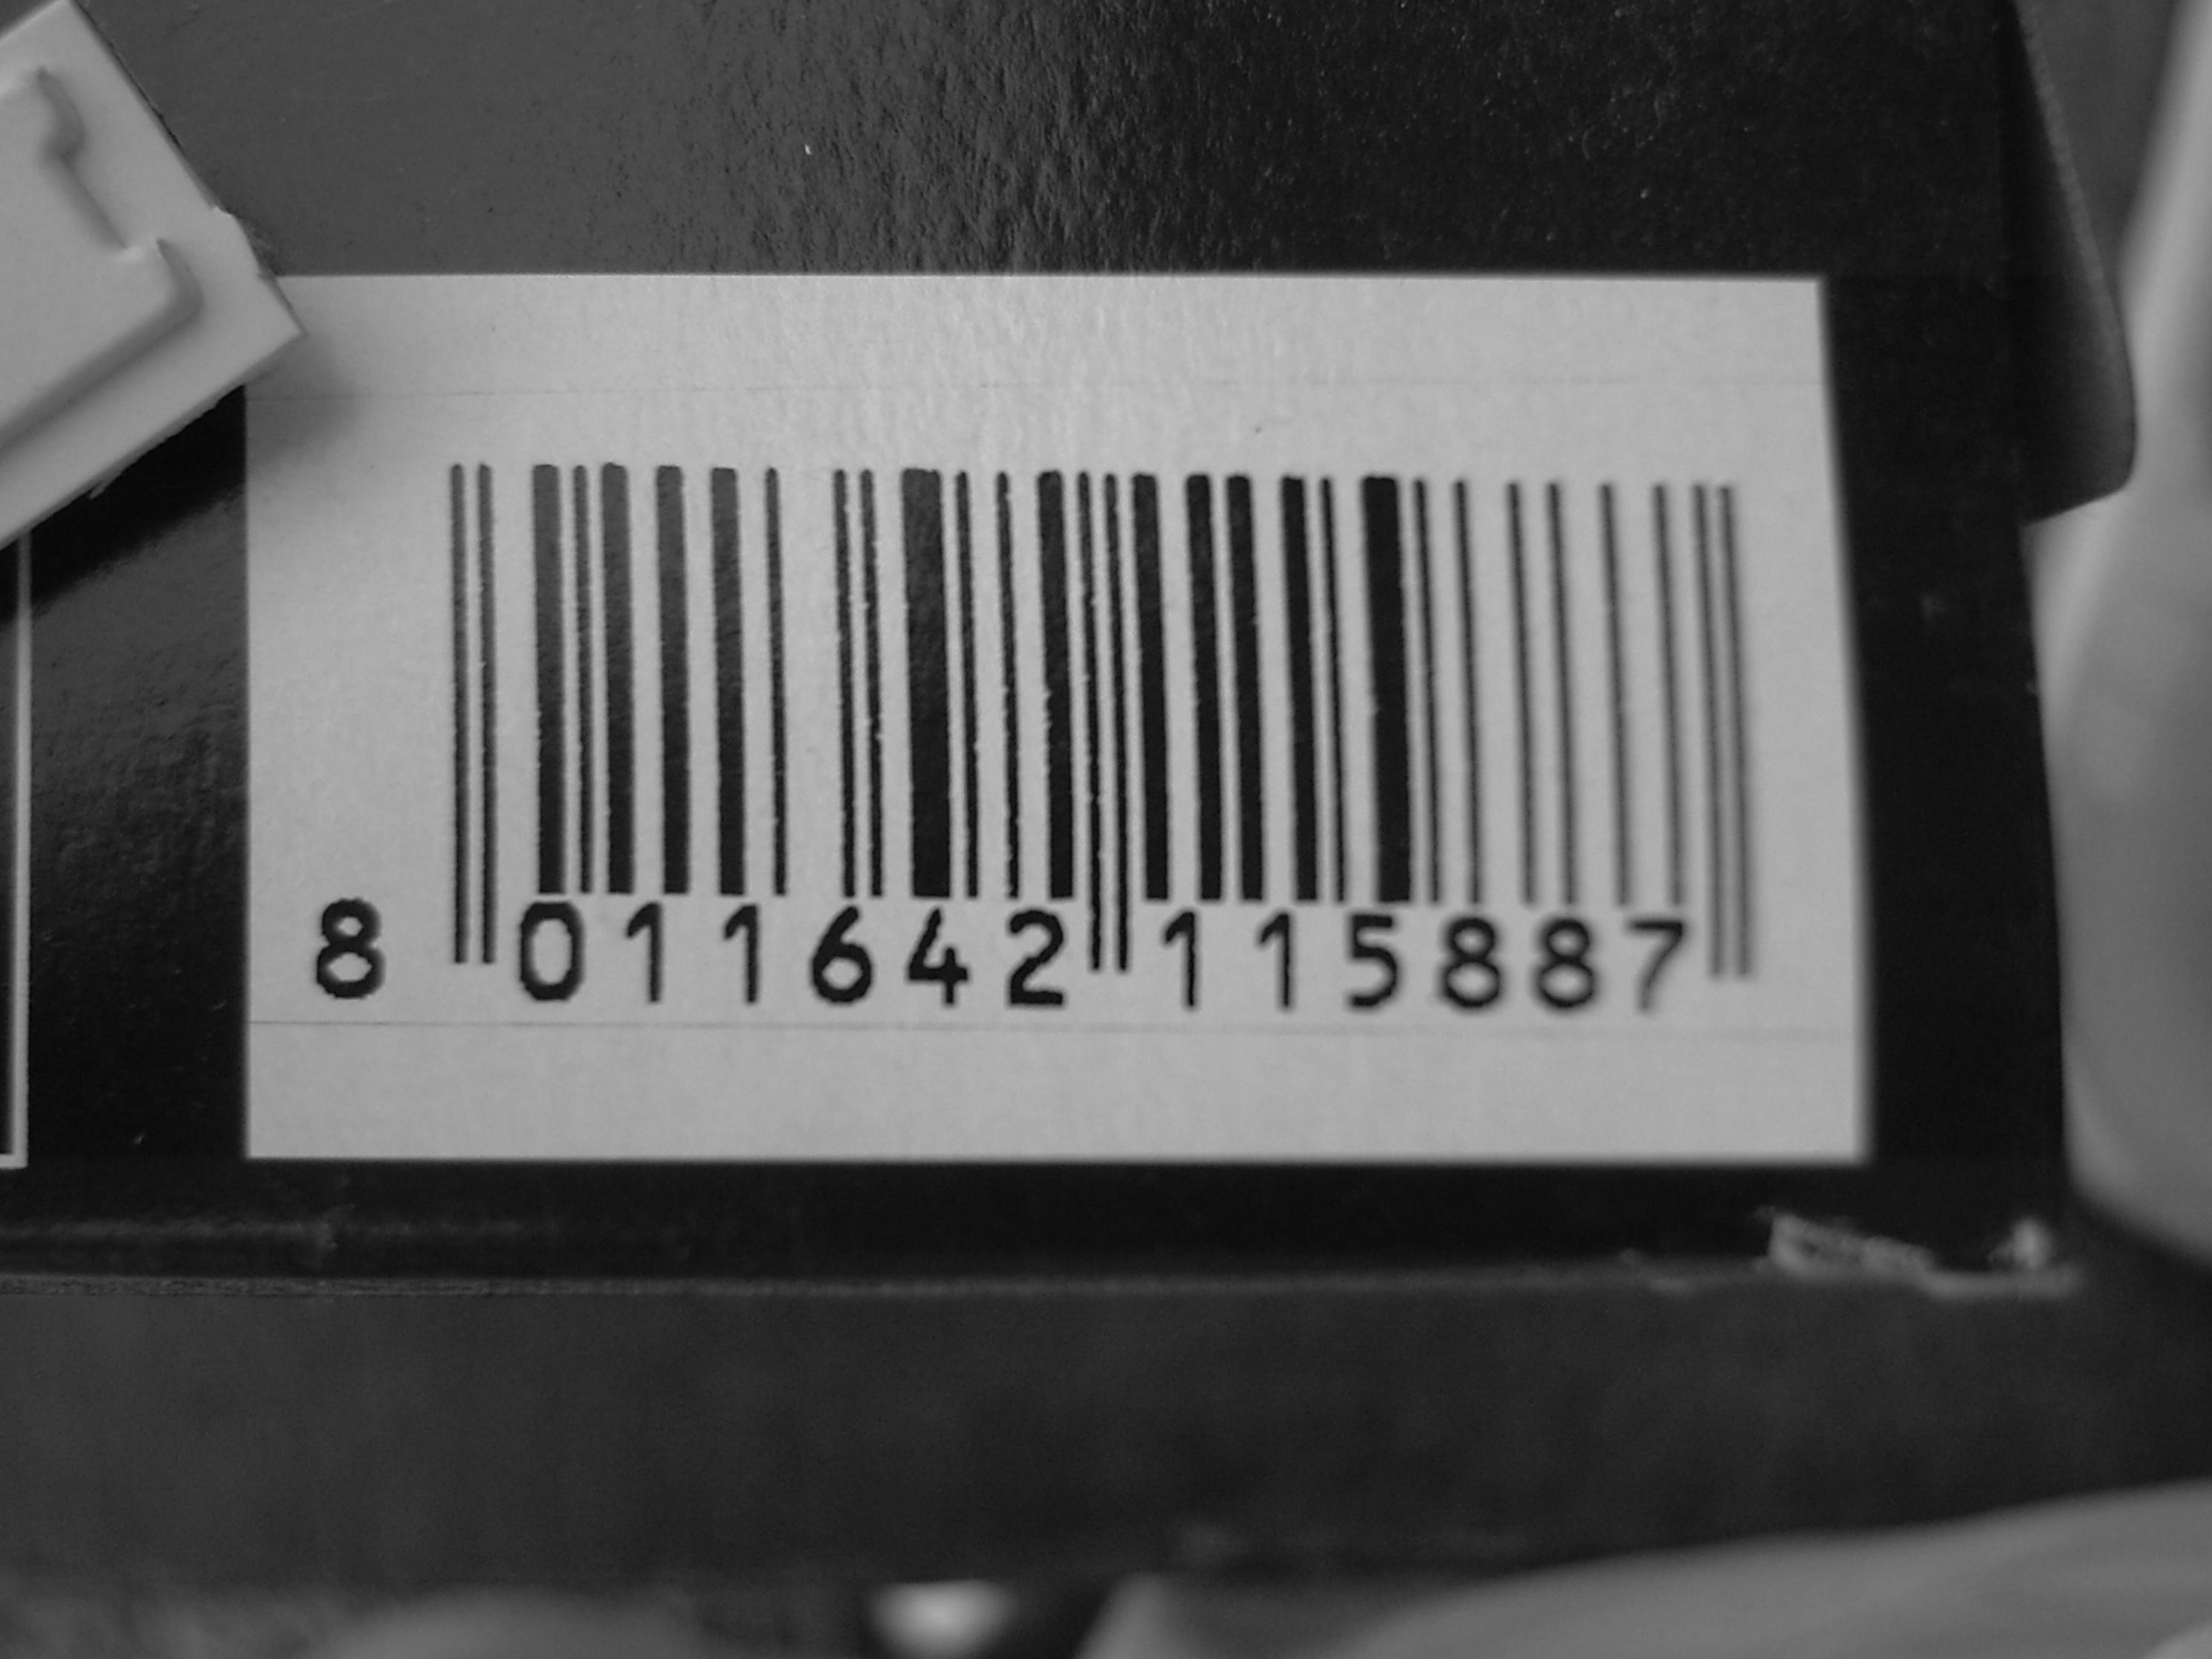Barcode: (388, 416, 1808, 1009)
